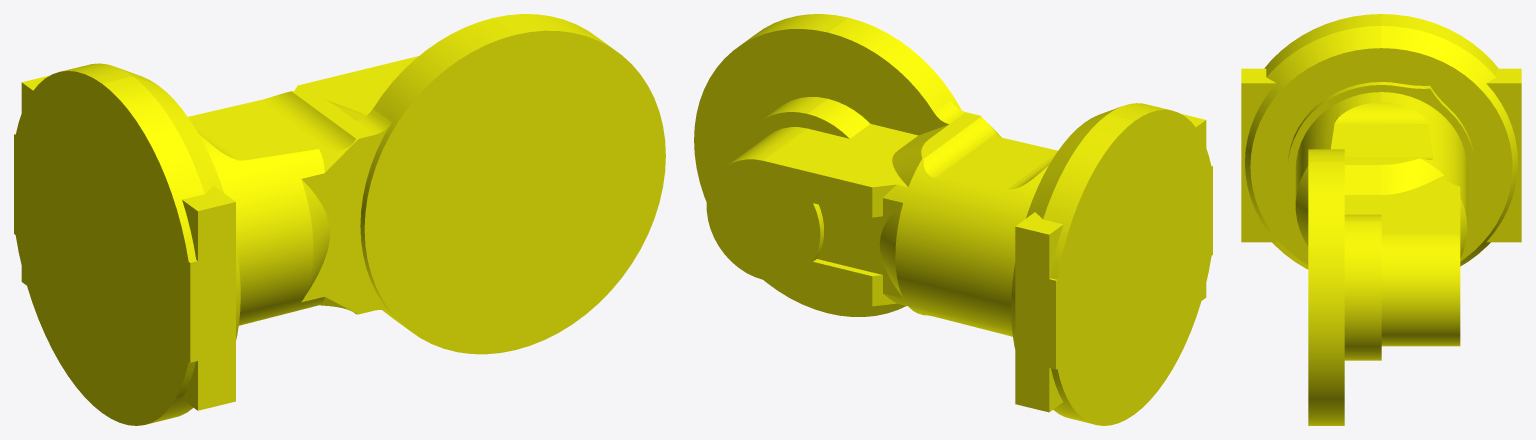
3 views of the same model, side by side, from view 1: azimuth 30°, elevation 25°; view 2: azimuth 150°, elevation 25°; view 3: azimuth 270°, elevation 25° (orthographic). The views are drawn at different scales.
Parts seen in each view (by area): view 1: Mesh_0; view 2: Mesh_0; view 3: Mesh_0.
Part boxes in pixels (left/top/right/bottom): Mesh_0: left=14, top=14, right=665, bottom=425; Mesh_0: left=694, top=14, right=1212, bottom=425; Mesh_0: left=1241, top=14, right=1521, bottom=425.
Bounding box in the file's own units: 0.2715 × 0.16 × 0.165.
